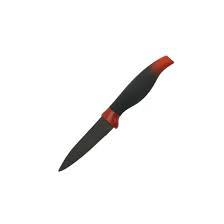Knife: (57, 54, 174, 171)
